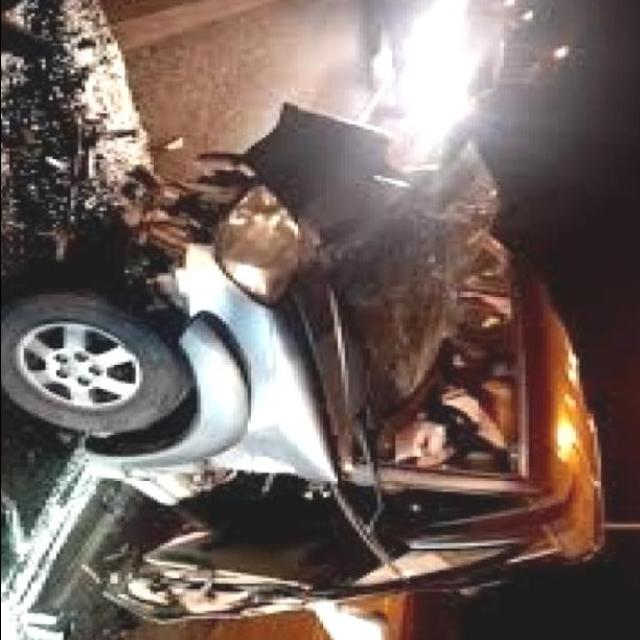accident: (0, 121, 594, 639)
